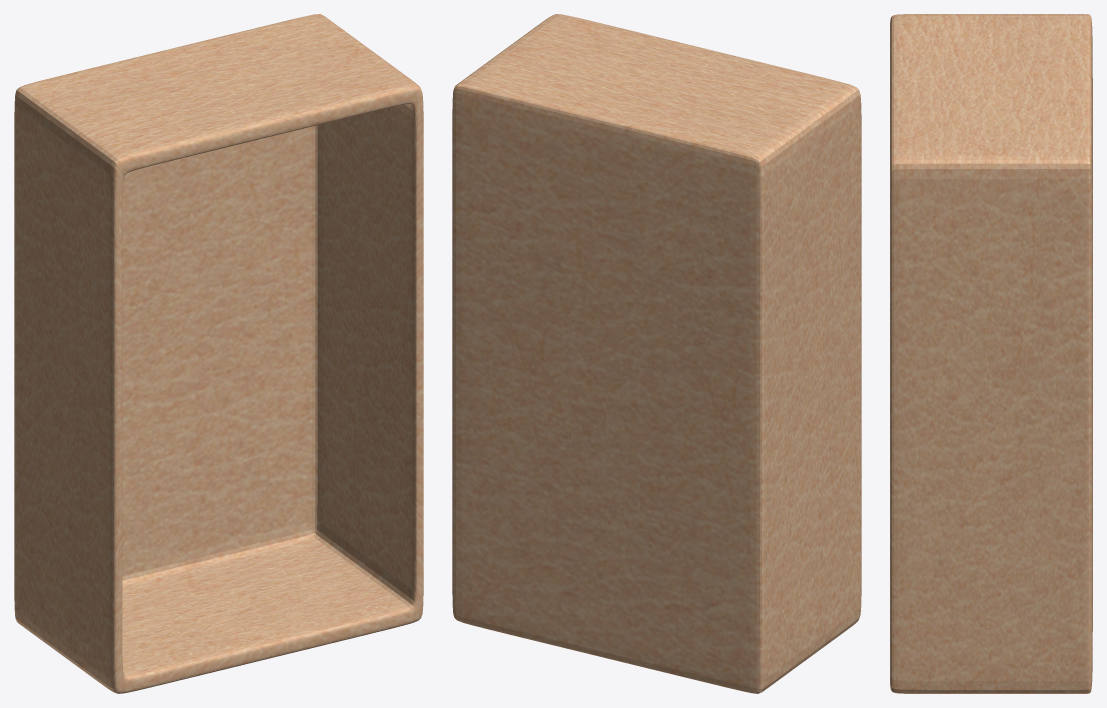
File: skin2.gltf
The picture shows the model from 3 angles, left to right: view 1: azimuth 30°, elevation 25°; view 2: azimuth 150°, elevation 25°; view 3: azimuth 270°, elevation 25°; orthographic projection.
Visible parts, largest first — view 1: Cubejeans000; view 2: Cubejeans000; view 3: Cubejeans000.
Boxes of the visible parts, x1,y1,x2,y2 form: Cubejeans000: [14, 14, 423, 693]; Cubejeans000: [452, 14, 861, 693]; Cubejeans000: [890, 14, 1092, 693].
Bounding box in the file's own units: 3.86 × 6.38 × 2.18.
1 material, 1 textured.
